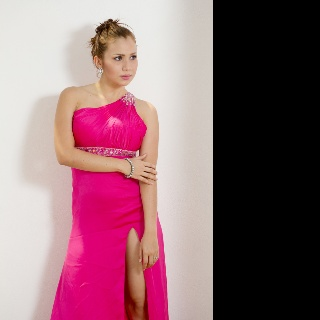without_mask: (101, 34, 138, 86)
